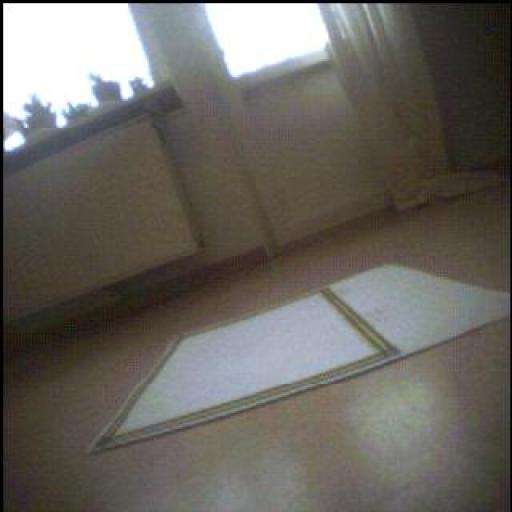Pad: (94, 267, 511, 452)
